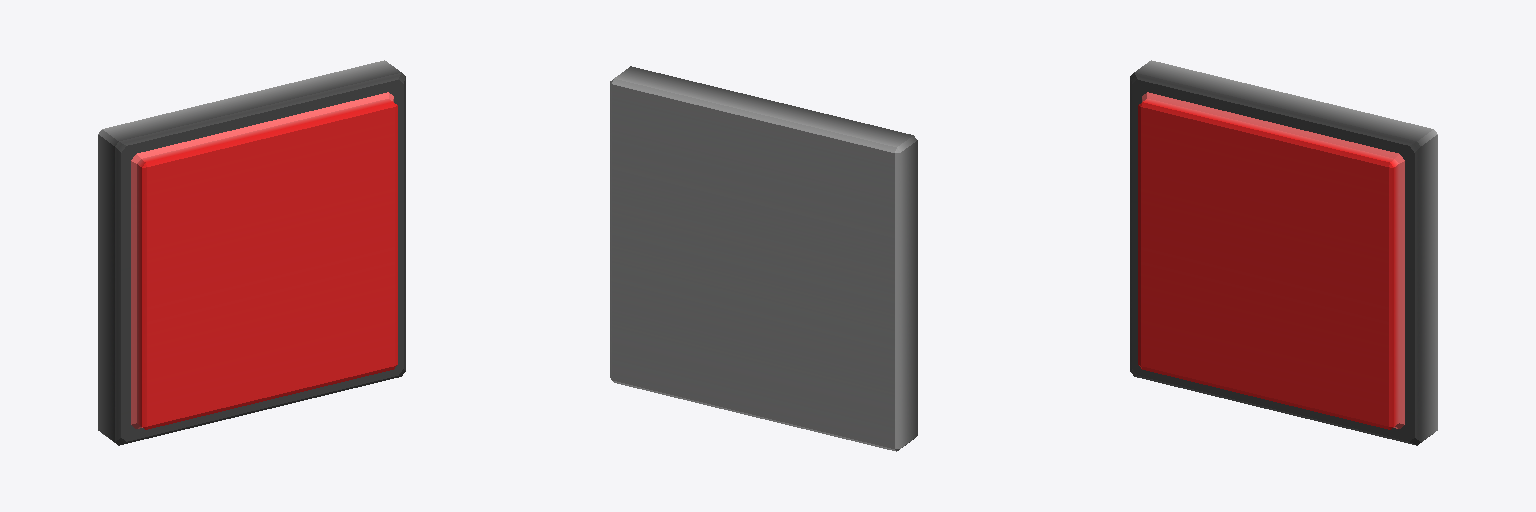
The picture shows the model from 3 angles: view 1: azimuth 30°, elevation 25°; view 2: azimuth 150°, elevation 25°; view 3: azimuth 330°, elevation 25°; orthographic projection.
Parts seen in each view (by area): view 1: Cube.001; view 2: Cube.001; view 3: Cube.001.
Part boxes in pixels (x1,y1,x2,y2): Cube.001: (98, 60, 405, 445); Cube.001: (610, 66, 917, 451); Cube.001: (1130, 60, 1437, 445).
Bounding box in the file's own units: 2 × 2 × 0.3527.
Materials: 1 (1 with a texture image).